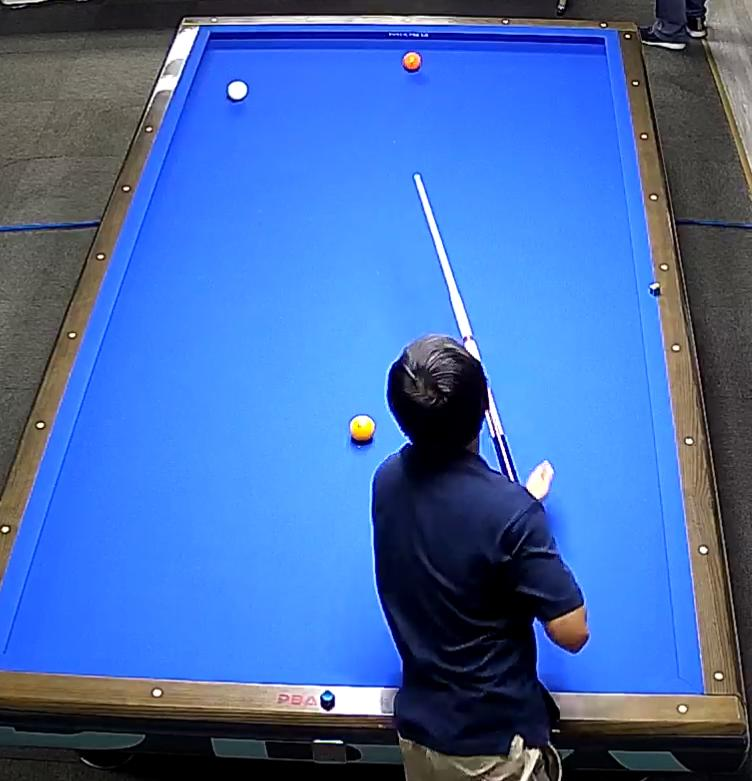orange ball: (401, 48, 424, 75)
white ball: (224, 75, 248, 106)
yellow ball: (347, 411, 376, 446)
